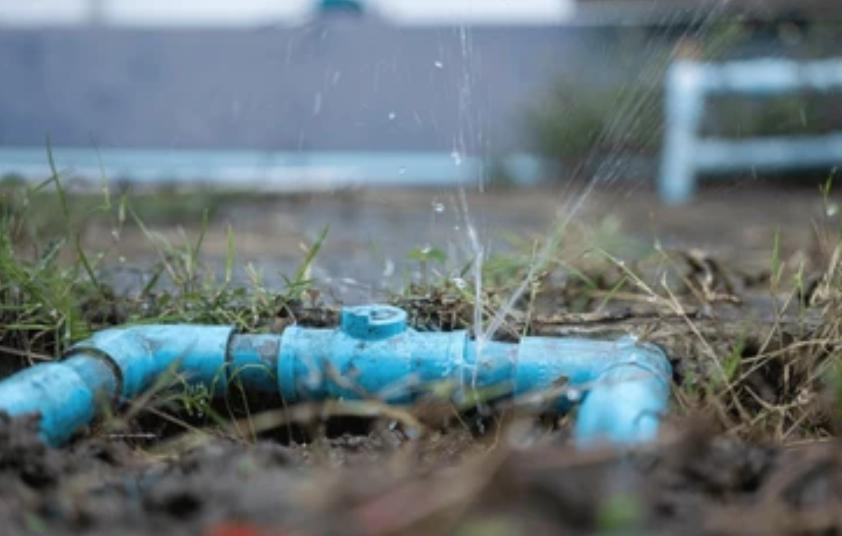pipe burst: (464, 158, 608, 356)
